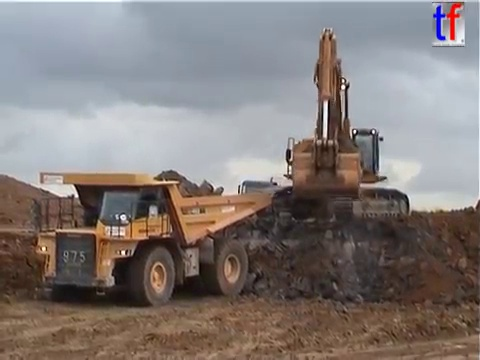excavator: (258, 25, 413, 229)
truck: (30, 170, 273, 309), (236, 175, 282, 218)
